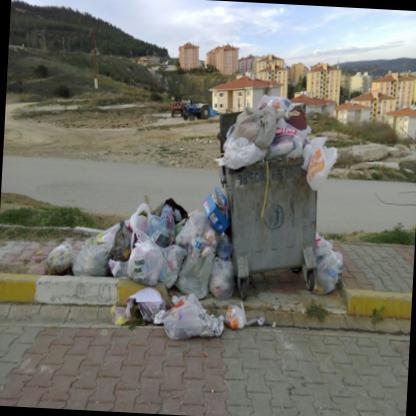Garbage: (56, 193, 235, 312), (217, 99, 319, 154), (148, 289, 219, 334), (234, 108, 294, 160), (314, 231, 362, 295), (124, 199, 174, 250), (214, 294, 272, 335), (68, 240, 118, 278), (128, 237, 165, 284), (195, 250, 232, 295)
